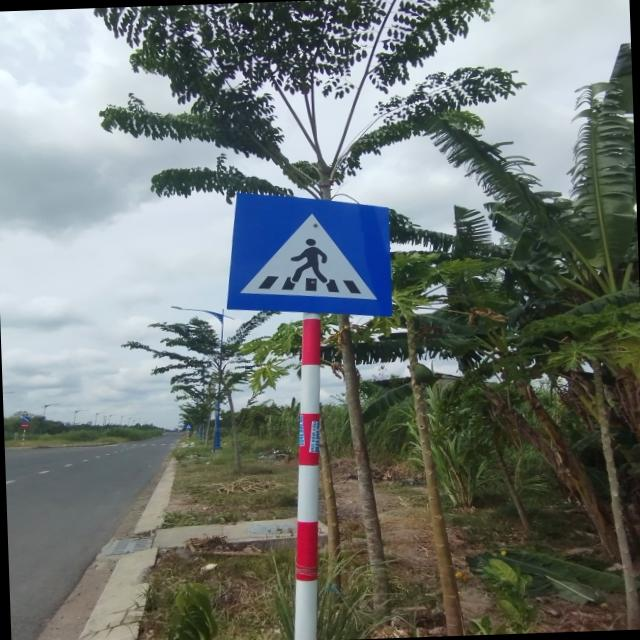Giao_Nhau_Duong_Uu_Tien: (222, 188, 392, 322)
